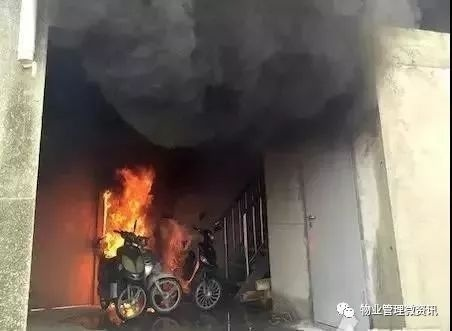fire: (100, 162, 155, 256), (114, 297, 152, 319)
